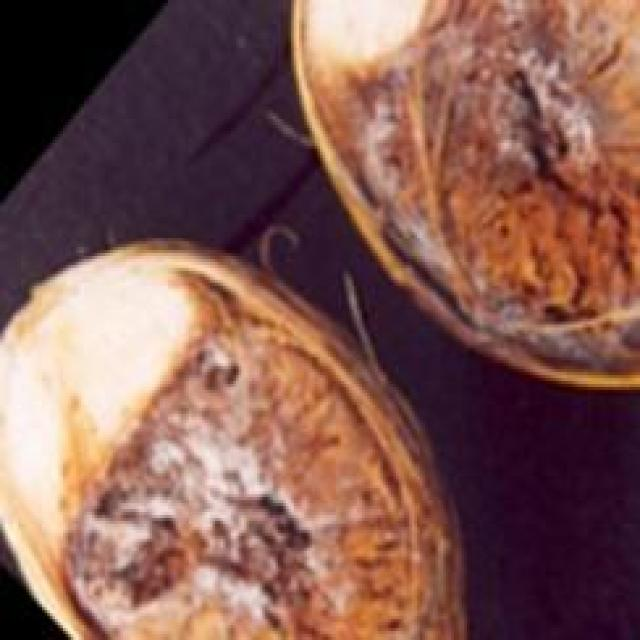damaged: (0, 238, 472, 637), (291, 0, 637, 393)
